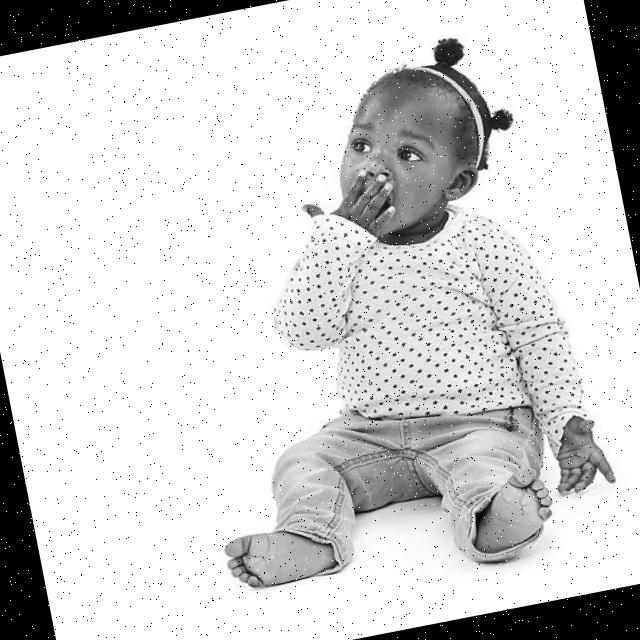Fear: (330, 80, 464, 234)
